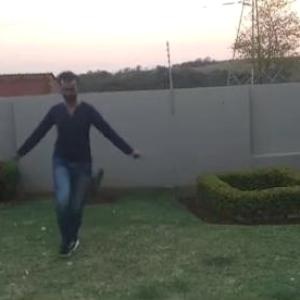land: (14, 73, 124, 234)
